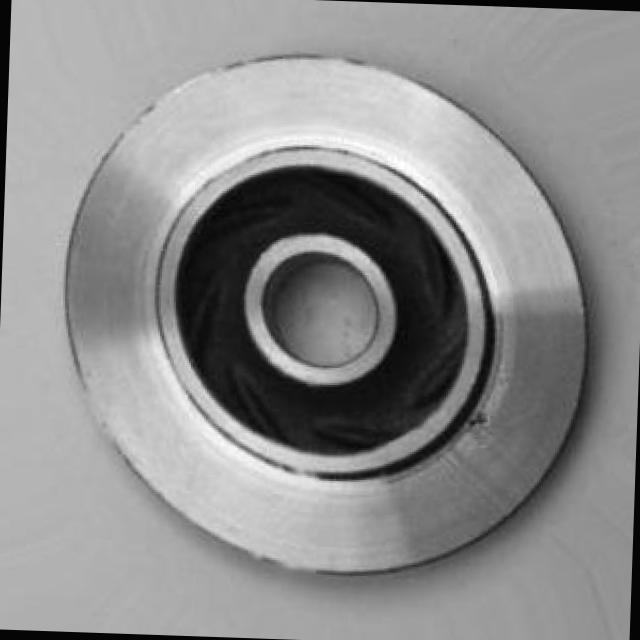Defect: (461, 401, 496, 439)
